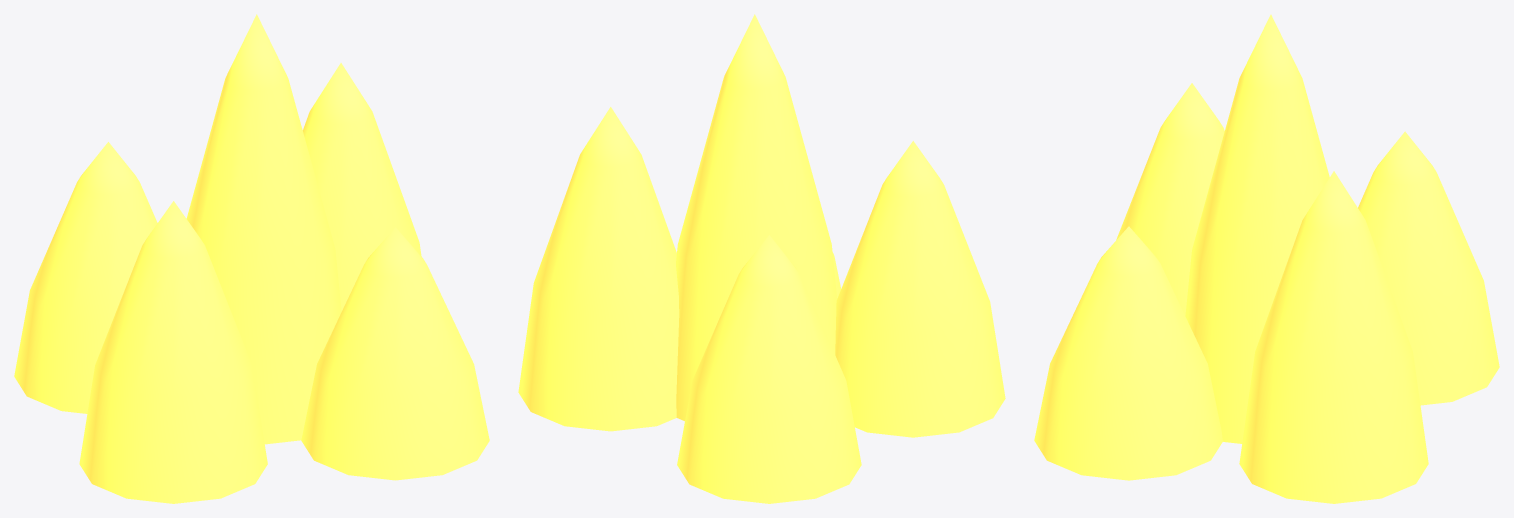
The model's file is kr_fire.glb.
3 renders of one model, left to right at view 1: azimuth 30°, elevation 25°; view 2: azimuth 150°, elevation 25°; view 3: azimuth 270°, elevation 25°, orthographic. The views are drawn at different scales.
Parts seen in each view (by area): view 1: kr_fire_flame; view 2: kr_fire_flame; view 3: kr_fire_flame.
Part boxes in pixels (left/top/right/bottom): kr_fire_flame: left=14, top=14, right=489, bottom=503; kr_fire_flame: left=518, top=14, right=1005, bottom=503; kr_fire_flame: left=1034, top=14, right=1499, bottom=503.
Size of the model in its own units: 0.59 by 0.6 by 0.59.
